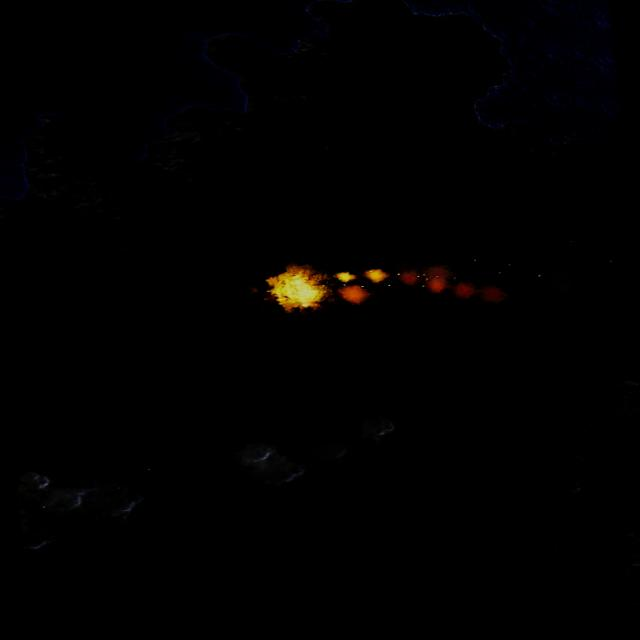fire: (263, 260, 388, 311)
smoke: (330, 228, 622, 339), (13, 448, 190, 560), (226, 408, 402, 494)
